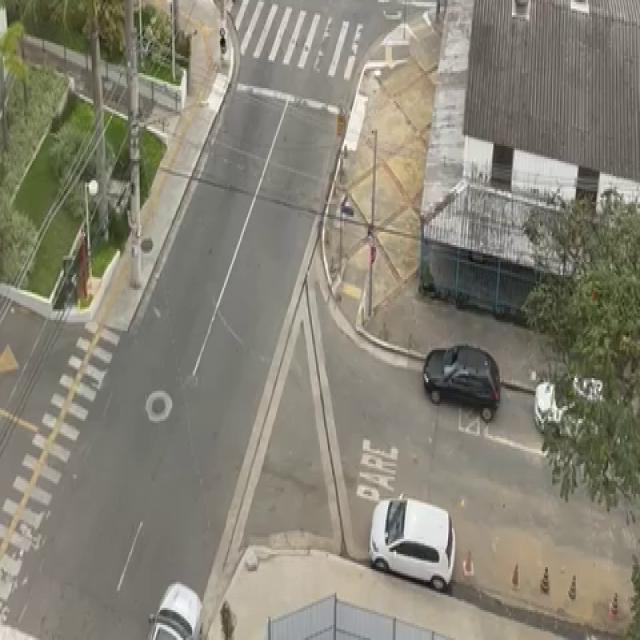car: (365, 484, 460, 603), (529, 357, 640, 449), (416, 332, 504, 431), (144, 571, 208, 640)
